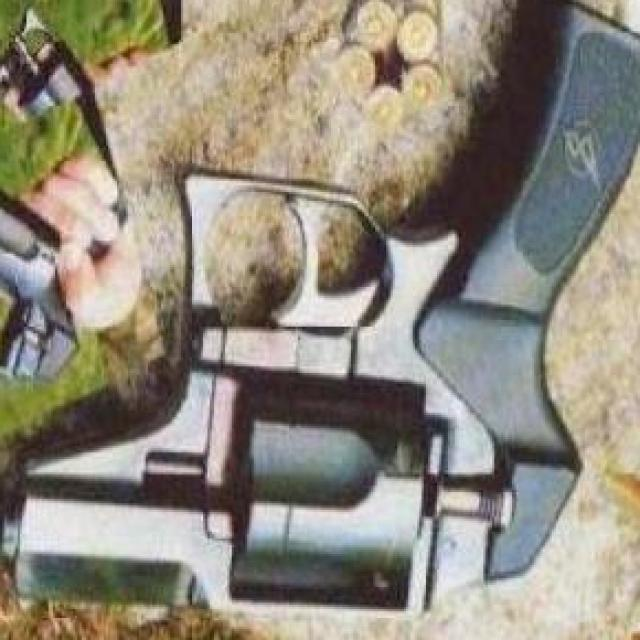pistol: (2, 9, 640, 624)
